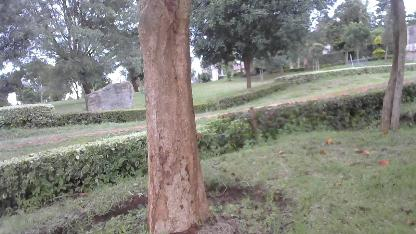tree: (134, 0, 218, 234), (195, 0, 317, 88), (380, 0, 408, 133)
